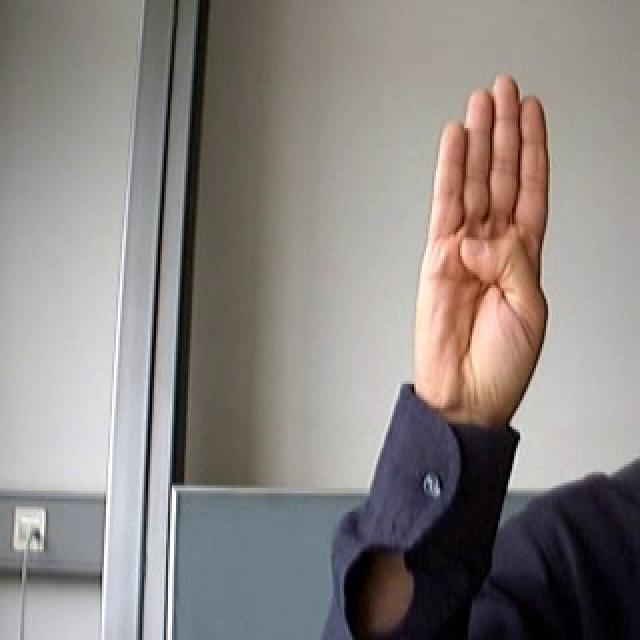B: (381, 56, 565, 415)
